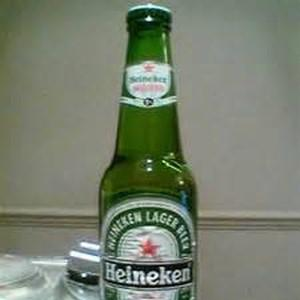beer: (96, 3, 199, 300)
